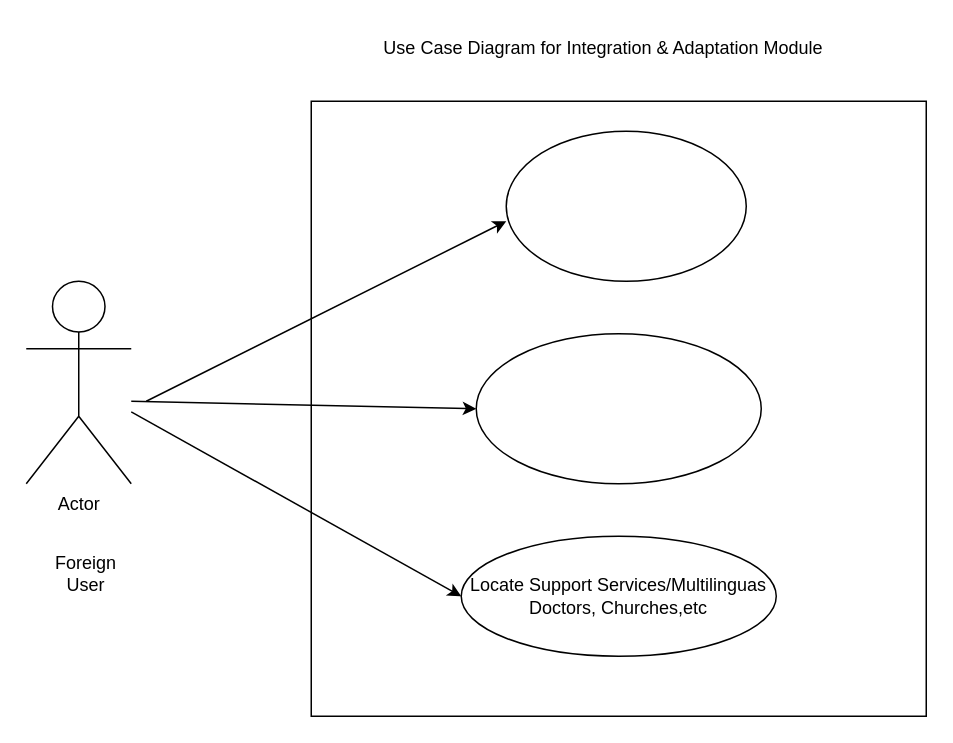
Image size: 953x743. Some labels were removed from this diagram. Each missing label, with the centre of its shape:
"Consult Pre-Migration Guide (Culture, Housing, Data" goes at (x=625, y=205).
"Search Tailored Activities (Introvert / Extrovert Filter" goes at (x=618, y=408).
